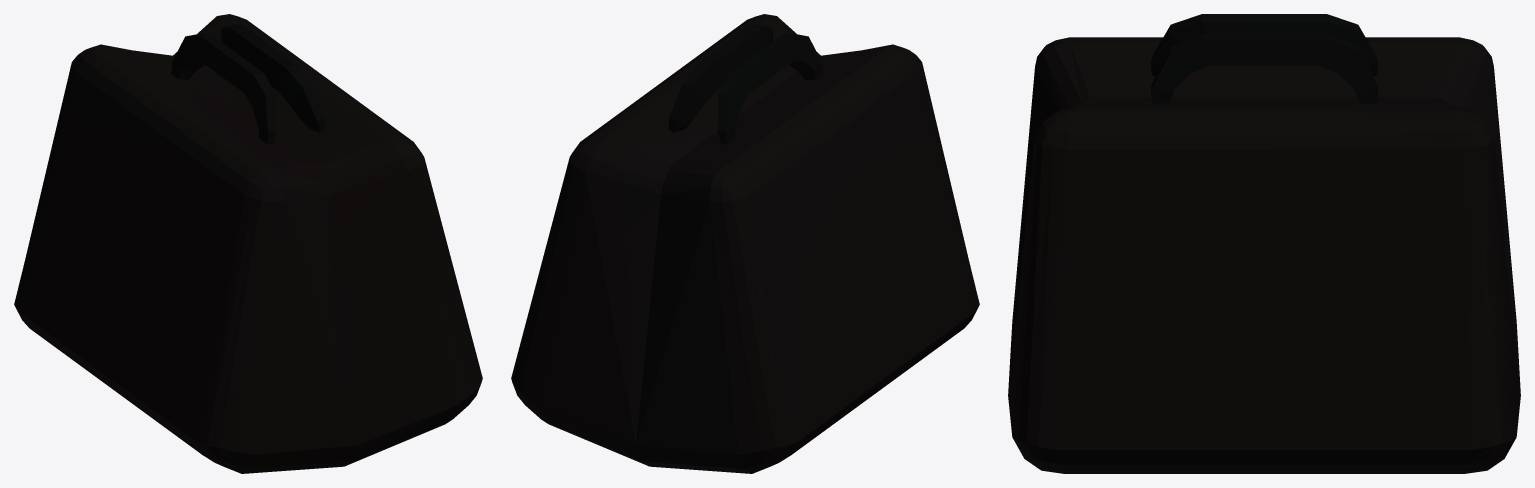
The model's file is valigia.obj.
3 renders of one model, left to right at view 1: azimuth 30°, elevation 25°; view 2: azimuth 150°, elevation 25°; view 3: azimuth 270°, elevation 25°, orthographic. The views are drawn at different scales.
Visible parts, largest first — view 1: Group20570, Group20600, Group20585; view 2: Group20570, Group20600, Group20585; view 3: Group20570, Group20585, Group20600.
Boxes of the visible parts, <box> form: Group20570: <box>14,14,482,473</box>; Group20600: <box>171,34,276,144</box>; Group20585: <box>221,25,325,132</box>; Group20570: <box>511,14,979,473</box>; Group20600: <box>717,34,822,144</box>; Group20585: <box>668,25,772,132</box>; Group20570: <box>1008,37,1520,473</box>; Group20585: <box>1151,34,1377,103</box>; Group20600: <box>1151,14,1377,75</box>.
Size of the model in its own units: 2.37 by 2.81 by 3.2.
Materials: 1 (1 with a texture image).
